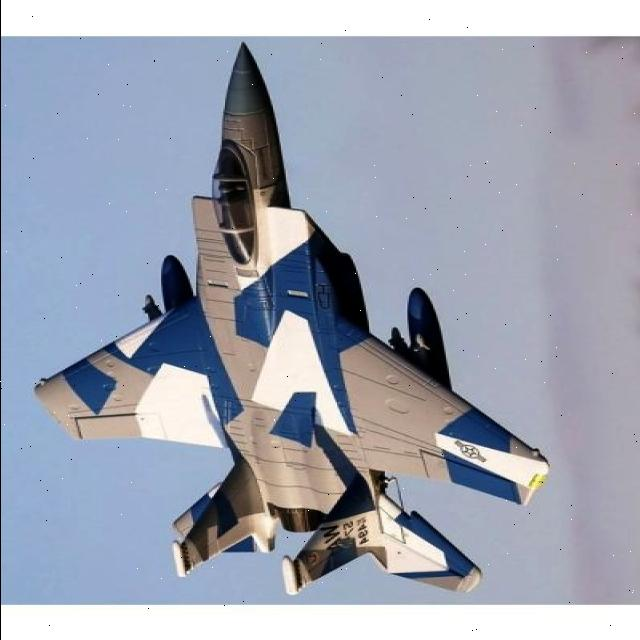F15: (10, 38, 570, 610)
